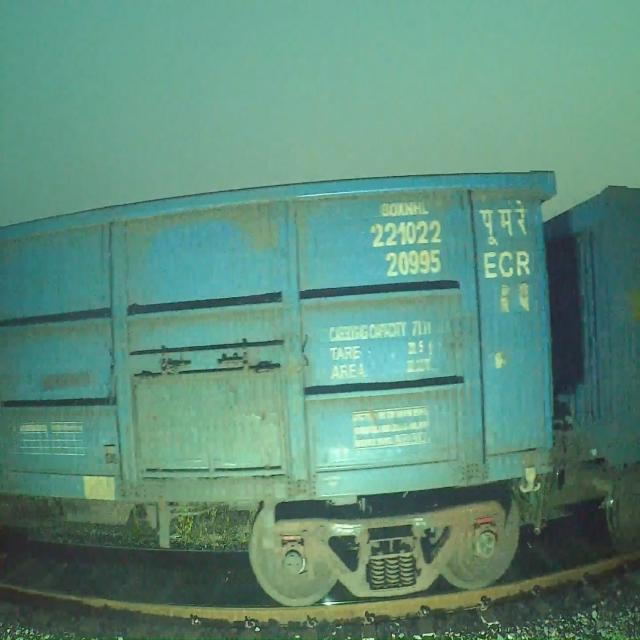WAgon-uic: (0, 166, 558, 604), (489, 185, 640, 546)
uic: (366, 216, 447, 280)
